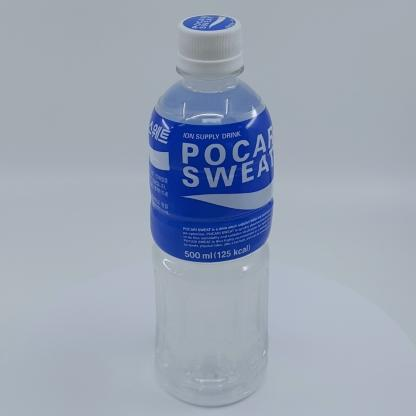--------500ML: (149, 14, 275, 406)
